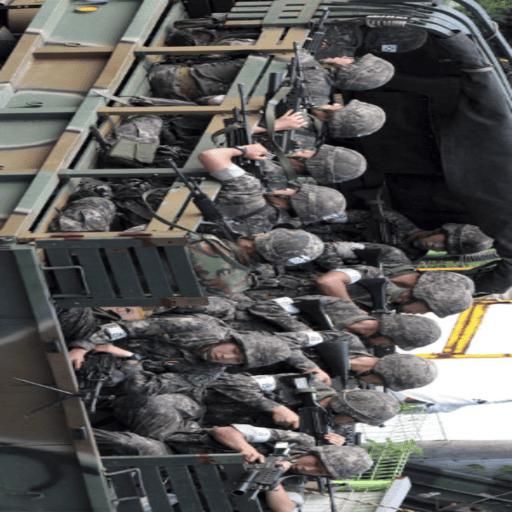korea army: (51, 204, 467, 512), (70, 163, 443, 309), (179, 360, 401, 512), (76, 303, 330, 385), (94, 355, 307, 449), (255, 48, 386, 175), (281, 282, 461, 358), (200, 154, 350, 242), (302, 202, 499, 268), (233, 248, 415, 311), (106, 286, 308, 335), (184, 235, 263, 291)
